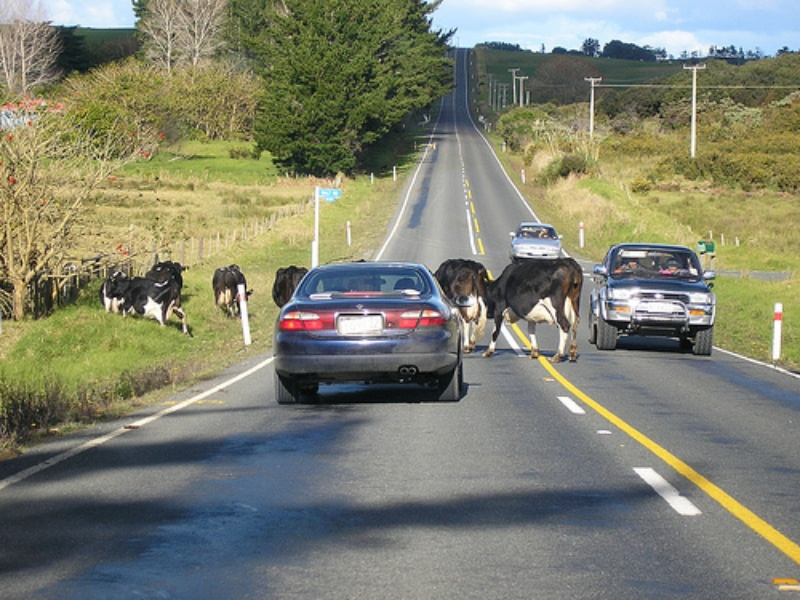car: (273, 262, 464, 401), (589, 243, 715, 354), (509, 222, 561, 260)
person: (659, 258, 680, 275)
